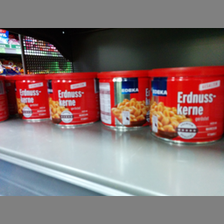nuts: (149, 66, 224, 145), (95, 70, 151, 131), (45, 72, 99, 130), (13, 75, 49, 123)
